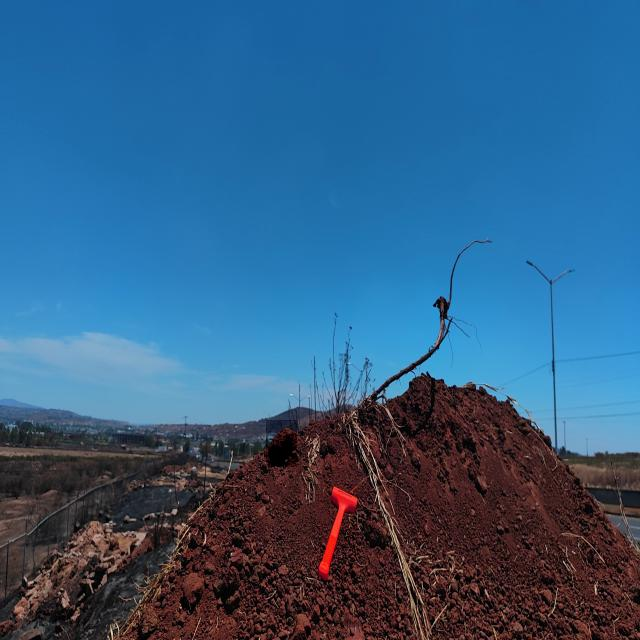Orange_hammer: (318, 484, 358, 582)
rock: (266, 420, 297, 467), (180, 568, 208, 611)
